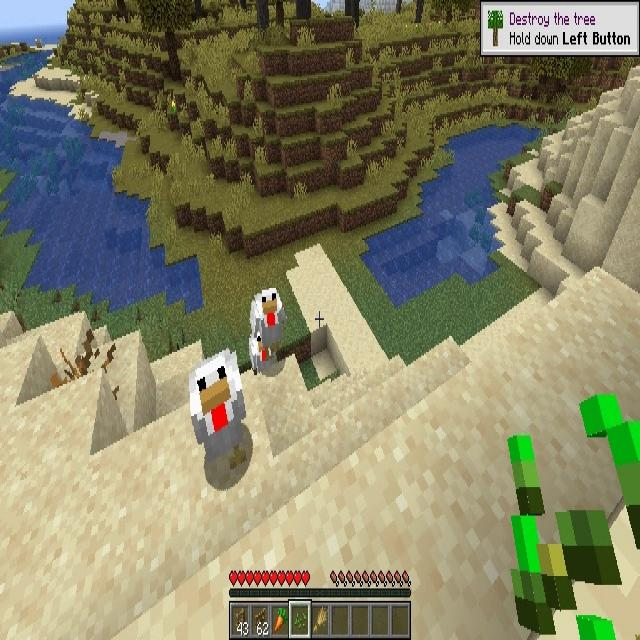duck: (189, 347, 245, 467), (251, 287, 283, 350), (250, 331, 271, 373)
